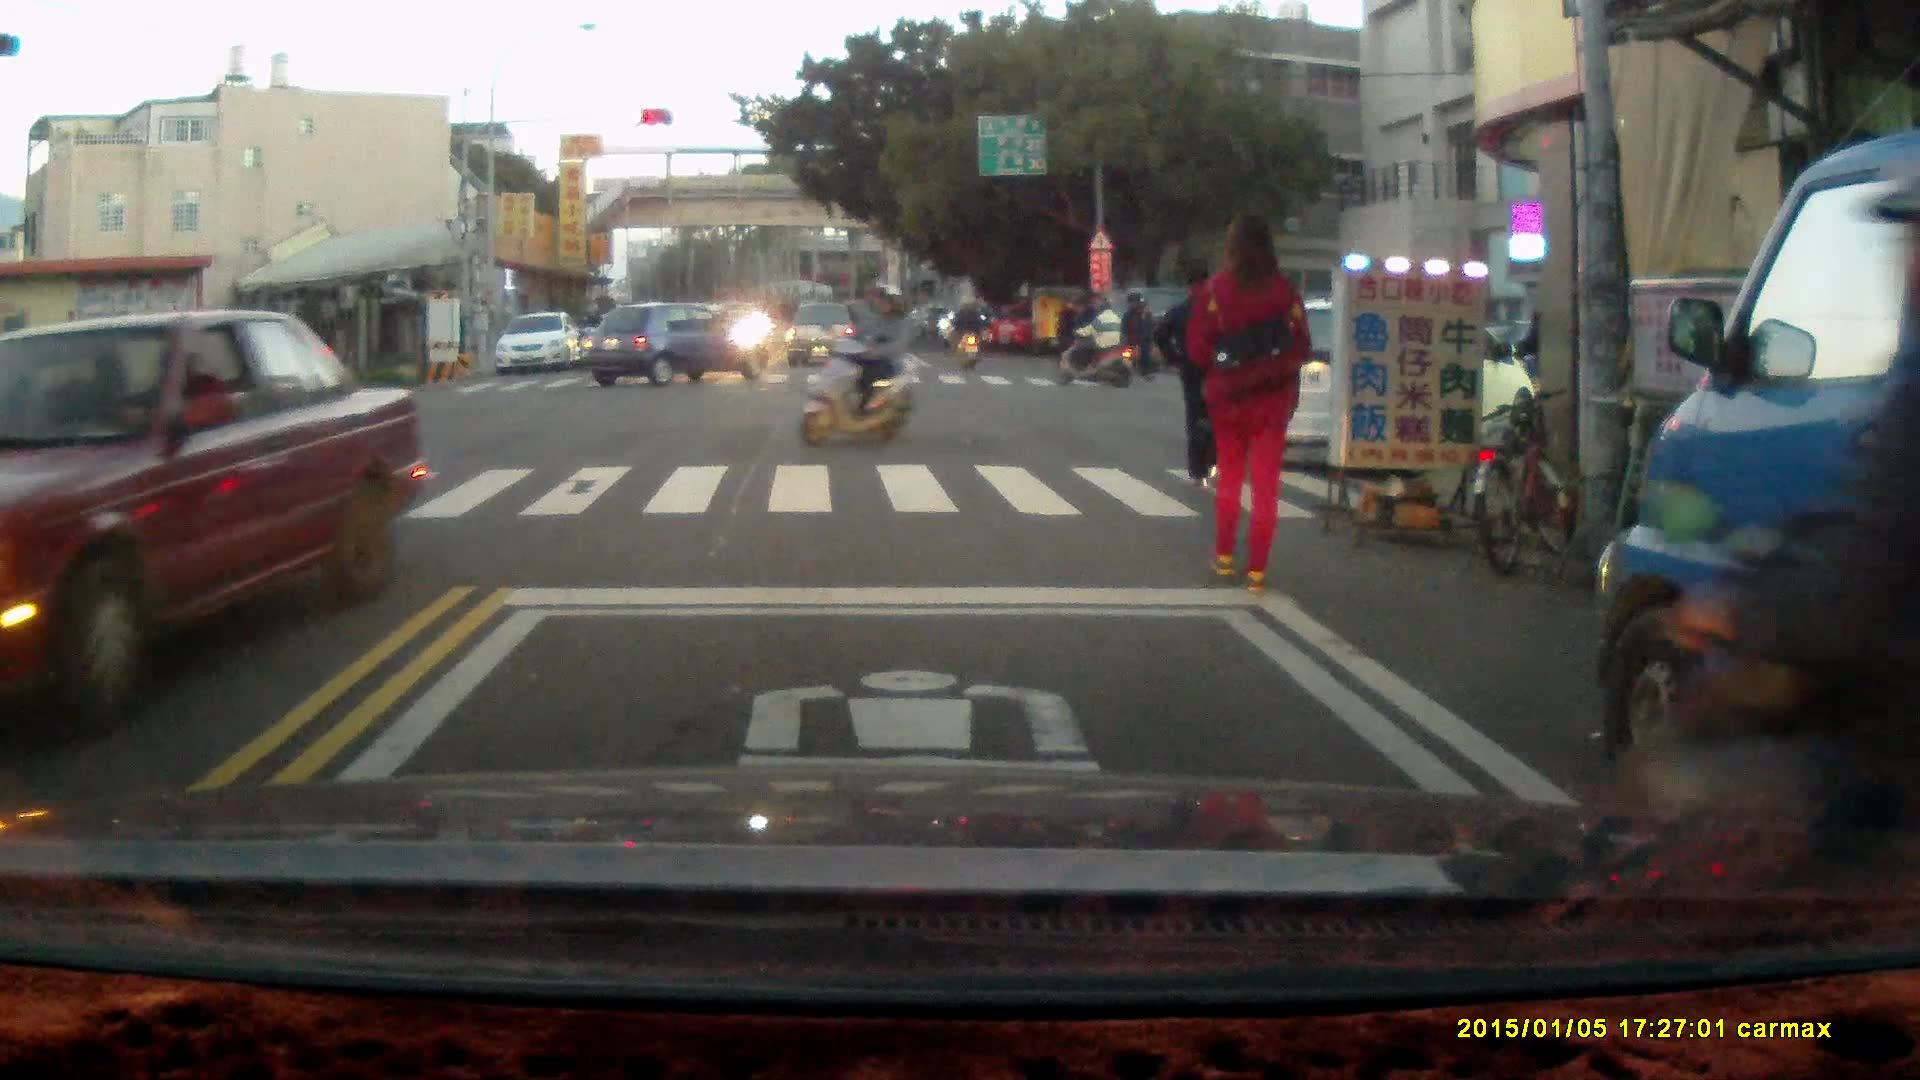pedestrian: (1180, 211, 1313, 593), (1159, 259, 1246, 490), (1125, 298, 1155, 379), (1053, 295, 1082, 379)
rider: (1611, 156, 1920, 894), (798, 284, 927, 448), (1054, 297, 1136, 388), (946, 292, 987, 371), (575, 302, 607, 369)
vehicle: (1598, 132, 1920, 876), (1, 311, 421, 749), (1233, 296, 1533, 459), (589, 304, 774, 390), (786, 301, 868, 374), (498, 313, 586, 377)
